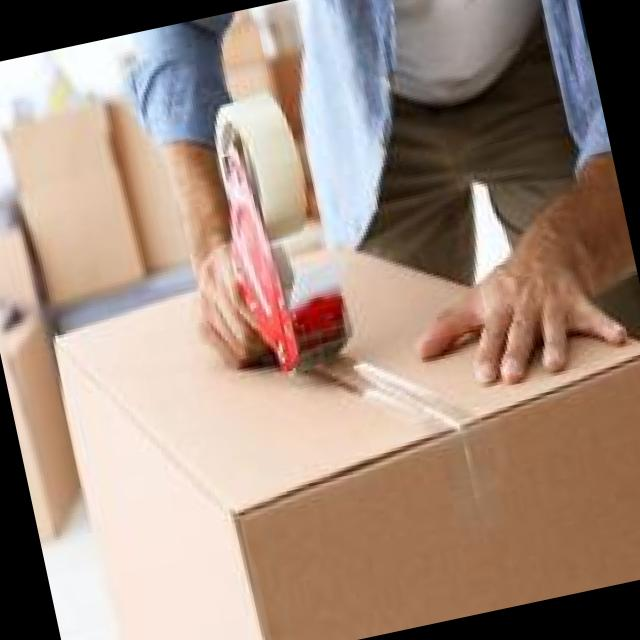box: (50, 247, 639, 640)
